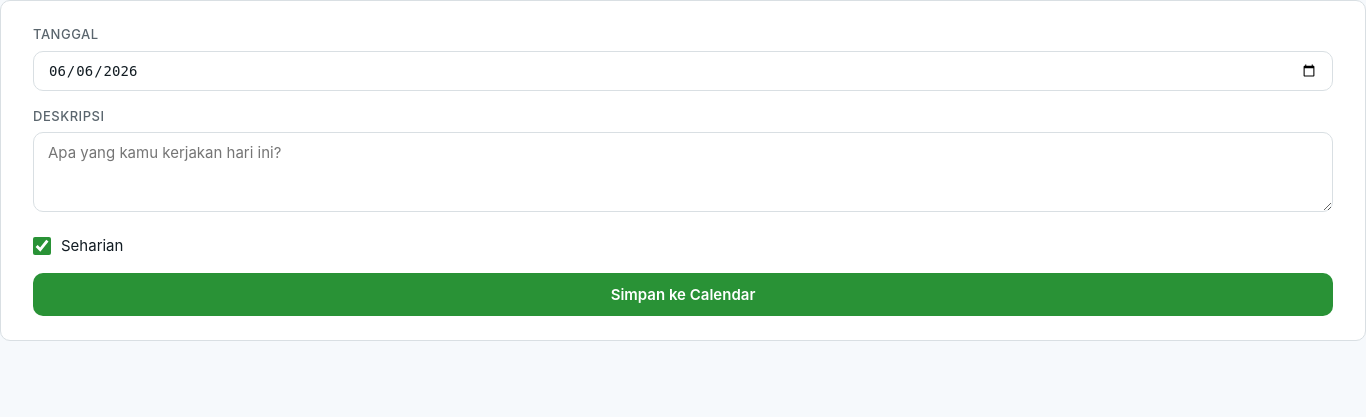
Test: ActivityForm › shows confirmation and clears description on successful submit
Type "Completed task X" into the text box labelled "Deskripsi" at (683, 172), box [33,132,1333,212]
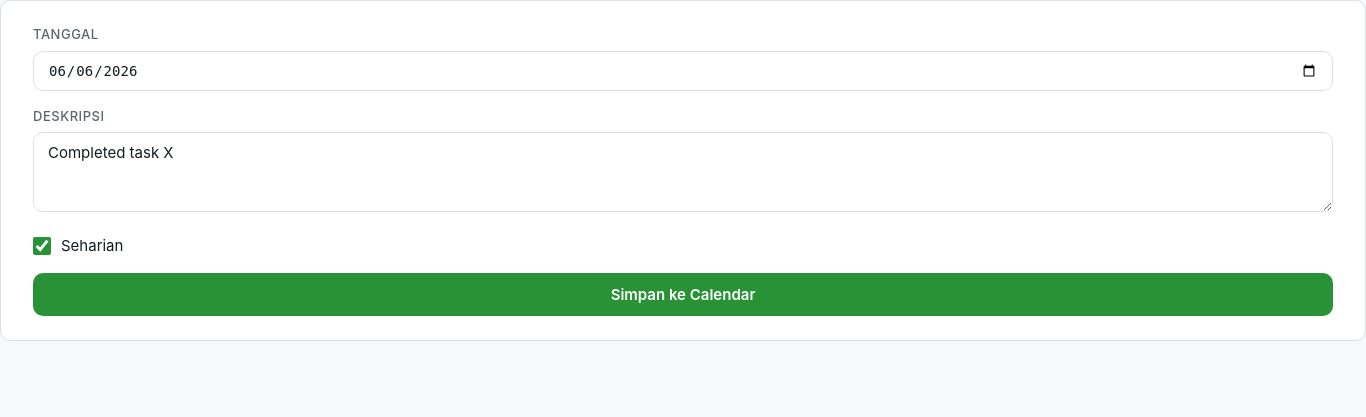
Click the button with test id "submit-button" at (683, 294), box [33,273,1333,316]
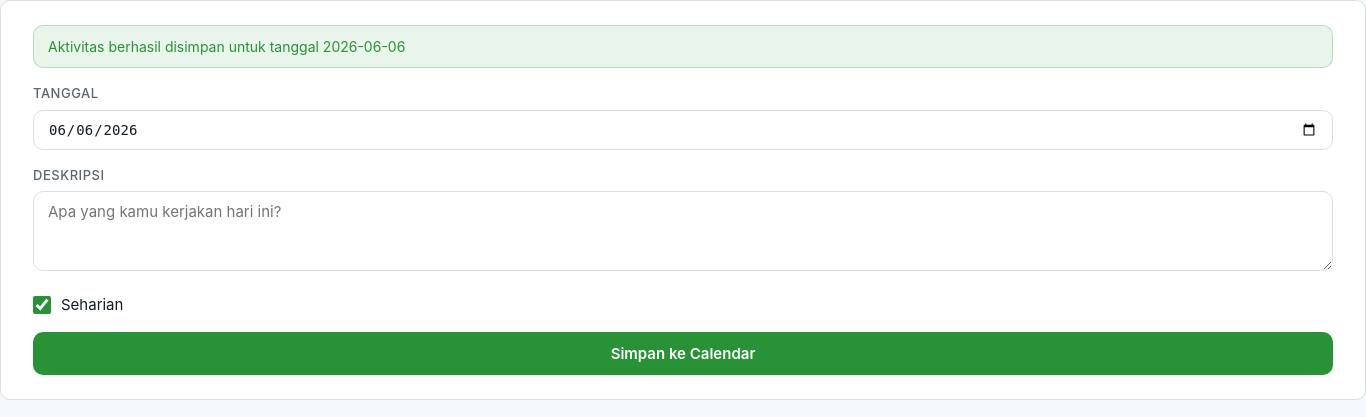
Expected: the date field labelled "Tanggal" is not empty, [33,110,1333,150]
Expected: the message "Aktivitas berhasil disimpan untuk tanggal 2026-06-06" is shown, [33,25,1333,68]
Expected: the text box labelled "Deskripsi" is empty, [33,191,1333,271]
